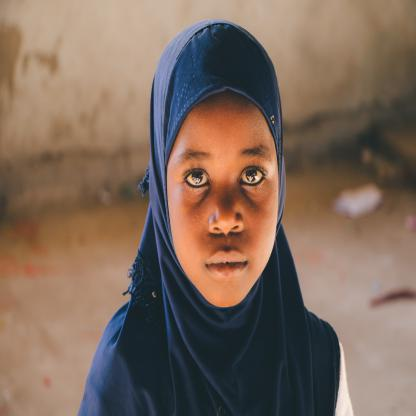Eye: (235, 156, 268, 194), (182, 160, 212, 196)
Mouth: (204, 246, 249, 282)
Nose: (206, 183, 246, 240)
